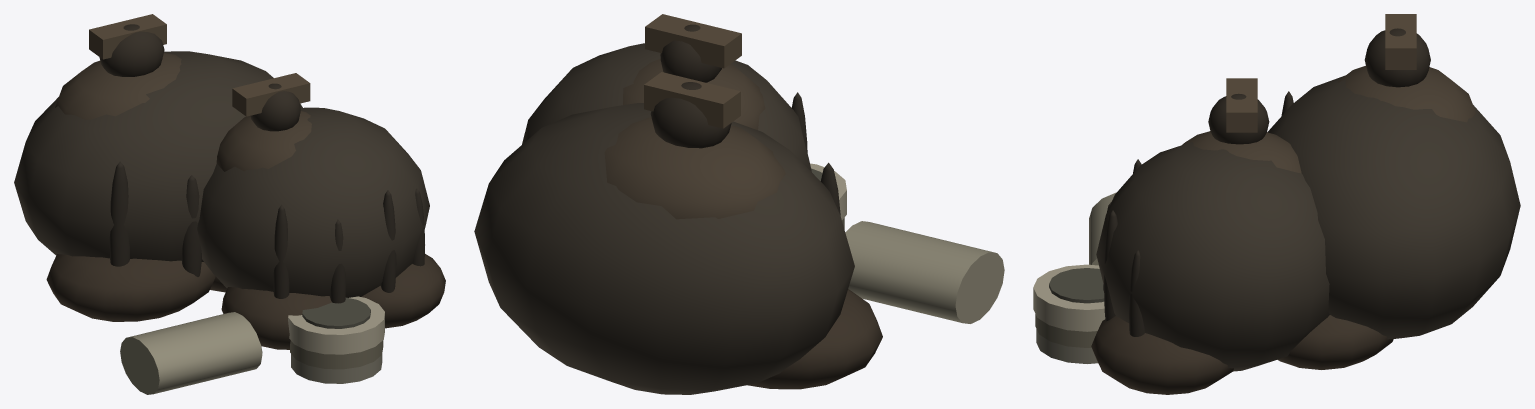
Rendered from CMU3DDecorFloorTrashbags3.glb.
3 views of the same model, side by side, from view 1: azimuth 30°, elevation 25°; view 2: azimuth 150°, elevation 25°; view 3: azimuth 270°, elevation 25° (orthographic). The views are drawn at different scales.
Parts seen in each view (by area): view 1: slumped bag body (×2), rumpled lower bag (×3), crushed can, gathered bag shoulder (×2), creased bag fold (×6), cinched bag neck (×2), knotted bag tie (×2), rolled can rim, can seam (×2), dark can top, dented metal can; view 2: slumped bag body (×2), gathered bag shoulder (×2), crushed can, knotted bag tie (×2), rumpled lower bag, cinched bag neck (×2), creased bag fold; view 3: slumped bag body (×2), rumpled lower bag (×2), gathered bag shoulder (×2), cinched bag neck (×2), knotted bag tie (×2), rolled can rim, dark can top, creased bag fold (×2), can seam (×2), dented metal can, crushed can.
Boxes of the visible parts, box(x1,y1,x2,y2) form: slumped bag body (×2): box(14, 51, 429, 297); rumpled lower bag (×3): box(46, 254, 445, 349); crushed can: box(120, 312, 262, 394); gathered bag shoulder (×2): box(55, 52, 311, 171); creased bag fold (×6): box(109, 161, 424, 303); cinched bag neck (×2): box(99, 24, 300, 131); knotted bag tie (×2): box(89, 14, 310, 116); rolled can rim: box(288, 296, 384, 354); can seam (×2): box(290, 340, 383, 369); dark can top: box(302, 297, 370, 328); dented metal can: box(291, 354, 382, 383); slumped bag body (×2): box(474, 43, 854, 394); gathered bag shoulder (×2): box(604, 59, 785, 219); crushed can: box(845, 221, 1004, 323); knotted bag tie (×2): box(644, 14, 741, 128); rumpled lower bag: box(747, 289, 882, 389); cinched bag neck (×2): box(650, 24, 731, 148); creased bag fold: box(820, 162, 840, 215); slumped bag body (×2): box(1096, 75, 1520, 371); rumpled lower bag (×2): box(1091, 315, 1393, 394); gathered bag shoulder (×2): box(1182, 65, 1475, 173); cinched bag neck (×2): box(1208, 28, 1430, 144); knotted bag tie (×2): box(1226, 14, 1416, 132); rolled can rim: box(1033, 264, 1105, 331); dark can top: box(1049, 268, 1104, 303); creased bag fold (×2): box(1104, 210, 1144, 336); can seam (×2): box(1035, 314, 1097, 347); dented metal can: box(1036, 329, 1097, 363); crushed can: box(1089, 192, 1115, 265).
Bounding box in the file's own units: 0.5563 × 0.4206 × 0.6704.
